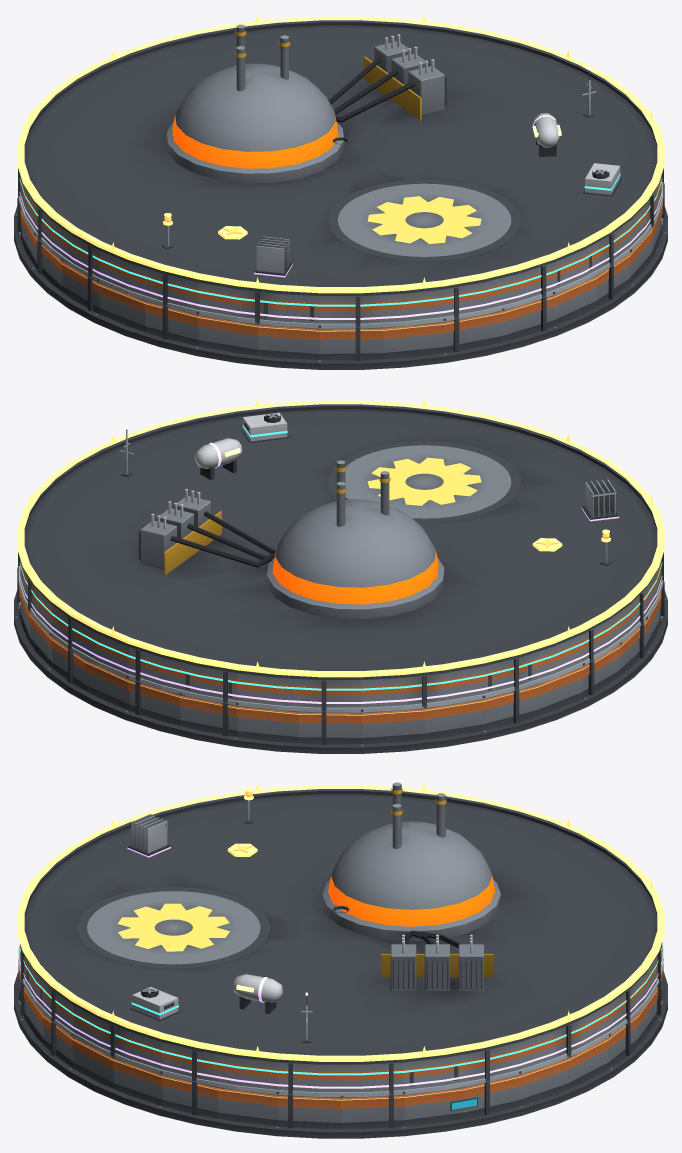
File: titanium_smelter_xl.glb
3 views of the same model, one above another, from view 1: azimuth 30°, elevation 25°; view 2: azimuth 150°, elevation 25°; view 3: azimuth 270°, elevation 25° (orthographic).
Visible parts, largest first — view 1: Roof, Base, L4, Wall_20, Wall_21, Wall_22, Wall_19, Wall_23, Wall_18, Wall_24, Upper_21, Upper_22 (+21 smaller); view 2: Roof, Base, L4, Wall_11, Wall_10, Wall_09, Wall_12, Wall_08, Wall_13, Wall_07, Upper_11, Upper_10 (+21 smaller); view 3: Roof, Base, L4, Wall_00, Wall_31, Wall_30, Wall_01, Wall_29, Wall_02, Upper_00, Upper_31, Wall_28 (+20 smaller).
Part boxes in pixels (x1,y1,x2,y2): Roof: (24, 20, 657, 295); Base: (14, 206, 667, 369); L4: (254, 113, 561, 277); Wall_20: (257, 323, 319, 359); Wall_21: (320, 327, 382, 360); Wall_22: (383, 321, 444, 358); Wall_19: (198, 315, 257, 355); Wall_23: (444, 310, 502, 353); Wall_18: (144, 300, 198, 346); Wall_24: (501, 295, 553, 341); Upper_21: (320, 295, 382, 327); Upper_22: (383, 289, 444, 322); Roof: (24, 404, 657, 679); Base: (14, 590, 667, 753); L4: (194, 438, 619, 521); Wall_11: (362, 708, 424, 743); Wall_10: (299, 711, 361, 744); Wall_09: (237, 705, 298, 742); Wall_12: (424, 699, 483, 739); Wall_08: (179, 693, 237, 737); Wall_13: (483, 684, 537, 730); Wall_07: (128, 679, 180, 725); Upper_11: (362, 675, 424, 707); Upper_10: (299, 679, 361, 711); Roof: (24, 782, 657, 1064); Base: (14, 972, 667, 1138); L4: (127, 814, 282, 1013); Wall_00: (341, 1094, 403, 1128); Wall_31: (278, 1094, 340, 1128); Wall_30: (217, 1087, 278, 1126); Wall_01: (403, 1087, 464, 1126); Wall_29: (161, 1074, 217, 1118); Wall_02: (464, 1074, 520, 1118); Upper_00: (341, 1062, 403, 1094); Upper_31: (278, 1062, 340, 1094); Wall_28: (112, 1056, 162, 1105).
Size of the model in its own units: 23.15 by 7.07 by 23.15.
